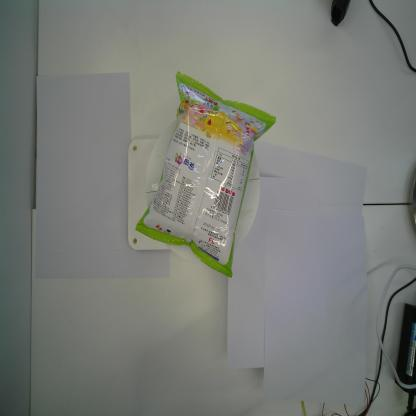Puffed Food: (134, 70, 277, 278)
